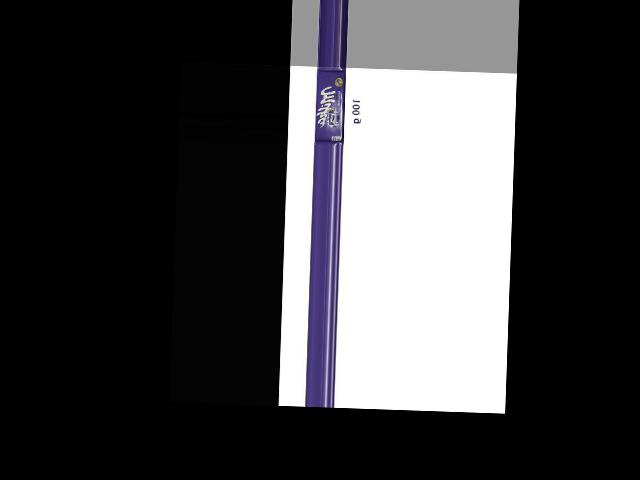chocolate: (314, 68, 351, 146)
